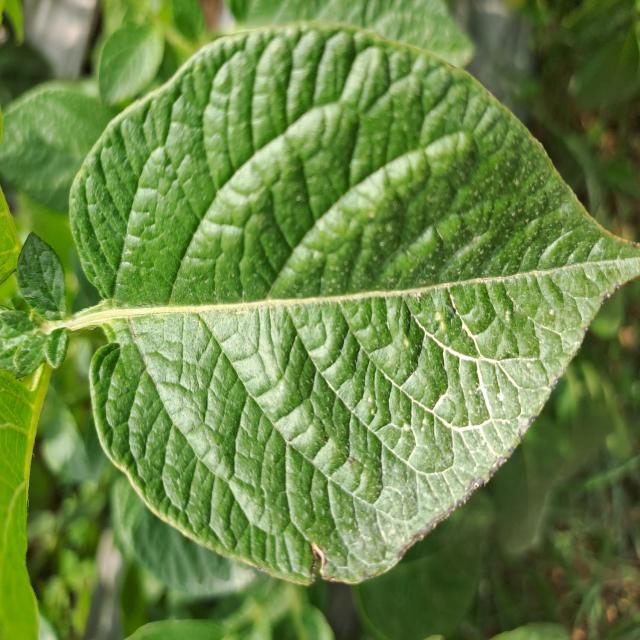healthy: (64, 19, 637, 590)
